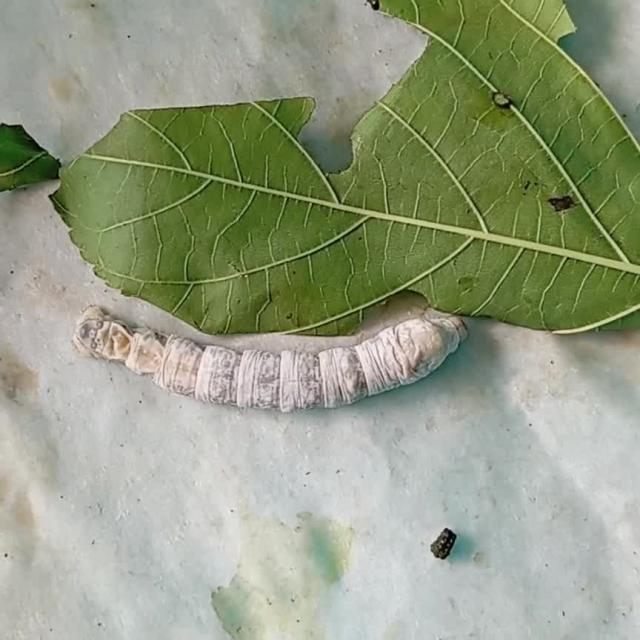Grasserie: (64, 282, 476, 432)
